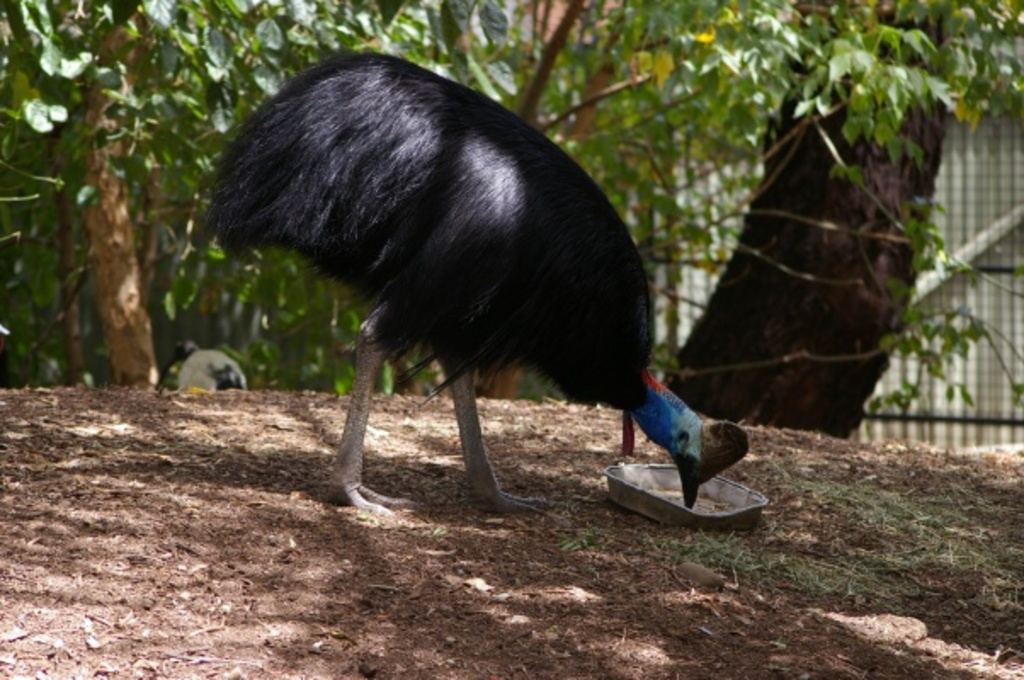Bird: (202, 51, 748, 515), (155, 340, 248, 391)
